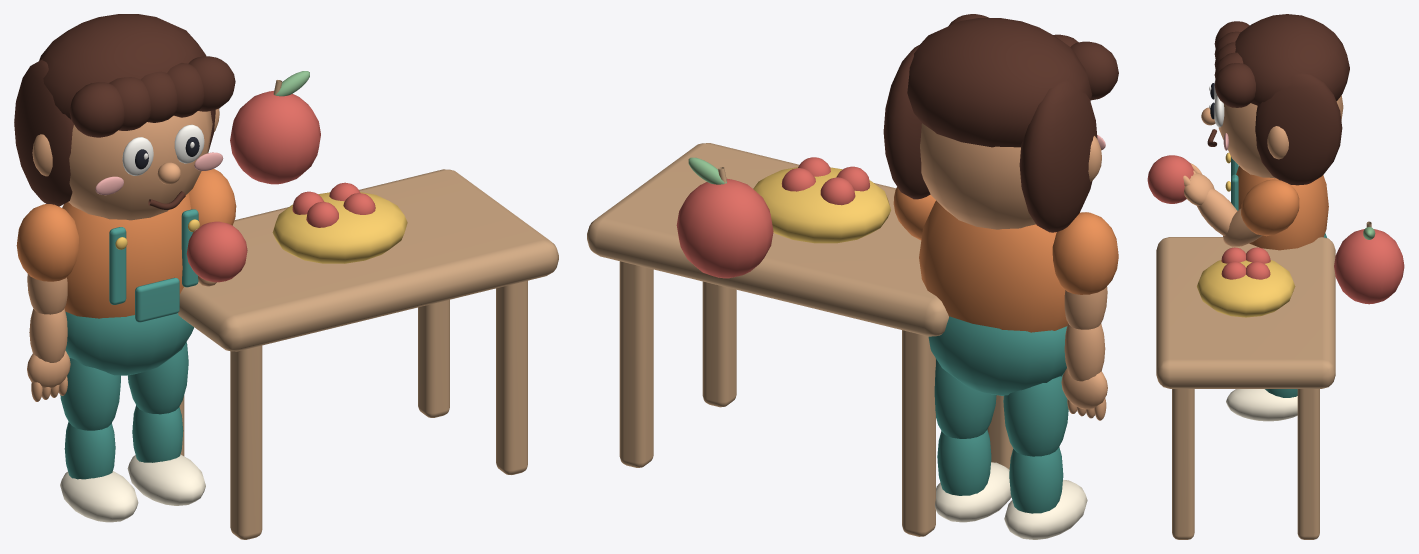
The model's file is ava-need-more.glb.
3 renders of one model, left to right at view 1: azimuth 30°, elevation 25°; view 2: azimuth 150°, elevation 25°; view 3: azimuth 270°, elevation 25°, orthographic. The views are drawn at different scales.
Parts seen in each view (by area): view 1: table top, hair cap, clay head, soft shirt, apple, table leg, overalls, table leg.002, food bowl, bob hair, shirt sleeve, table leg.003 (+23 smaller); view 2: table top, hair cap, soft shirt, bob hair, clay head, overalls, apple, table leg.003, table leg.001, food bowl, shirt sleeve, table leg.002 (+15 smaller); view 3: table top, bob hair.001, hair cap, apple, food bowl, table leg.003, table leg.002, soft shirt, shirt sleeve.001, clay head, little shoe.001, little apple (+10 smaller).
Boxes of the visible parts, bbox=[...] form: table top: bbox=[178, 169, 558, 351]; hair cap: bbox=[39, 14, 206, 119]; clay head: bbox=[68, 111, 212, 220]; soft shirt: bbox=[62, 193, 190, 318]; apple: bbox=[230, 91, 320, 184]; table leg: bbox=[230, 345, 262, 539]; overalls: bbox=[65, 311, 193, 375]; table leg.002: bbox=[496, 280, 527, 474]; food bowl: bbox=[272, 192, 407, 263]; bob hair: bbox=[14, 59, 73, 206]; shirt sleeve: bbox=[16, 204, 78, 281]; table leg.003: bbox=[418, 299, 449, 417]; table top: bbox=[587, 143, 948, 336]; hair cap: bbox=[907, 18, 1092, 147]; soft shirt: bbox=[919, 200, 1067, 332]; bob hair: bbox=[1019, 81, 1097, 232]; clay head: bbox=[920, 123, 1035, 229]; overalls: bbox=[928, 316, 1067, 395]; apple: bbox=[676, 178, 773, 278]; table leg.003: bbox=[619, 261, 653, 467]; table leg.001: bbox=[902, 330, 935, 536]; food bowl: bbox=[753, 167, 890, 243]; shirt sleeve: bbox=[1052, 212, 1118, 294]; table leg.002: bbox=[702, 281, 736, 407]; table top: bbox=[1156, 237, 1335, 388]; bob hair.001: bbox=[1255, 73, 1342, 185]; hair cap: bbox=[1235, 14, 1349, 105]; apple: bbox=[1334, 229, 1404, 304]; food bowl: bbox=[1197, 260, 1295, 317]; table leg.003: bbox=[1297, 389, 1319, 539]; table leg.002: bbox=[1172, 389, 1194, 539]; soft shirt: bbox=[1236, 166, 1328, 250]; shirt sleeve.001: bbox=[1241, 179, 1299, 236]; clay head: bbox=[1218, 95, 1343, 178]; little shoe.001: bbox=[1226, 389, 1297, 421]; little apple: bbox=[1147, 155, 1194, 203].
Size of the model in its own units: 1.93 by 1.9 by 1.15.
